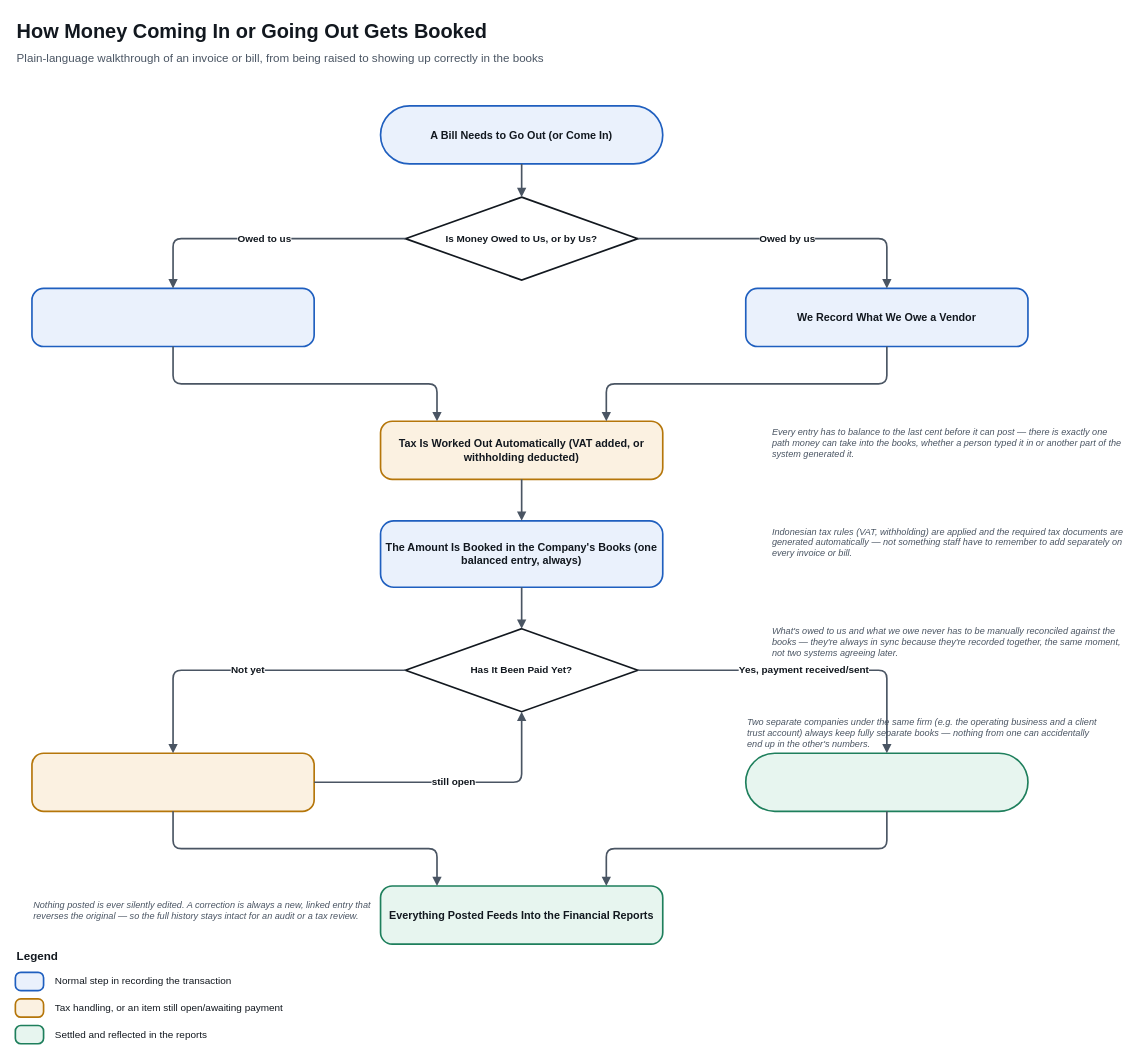
Image size: 1141x1060. Some labels were removed from this diagram. Each missing label, with the box of its shape:
It Stays Open and Tracked (shows up in the aging report): (31, 752, 315, 812)
It's Marked Settled and the Books Reconcile Automatically: (745, 752, 1028, 812)
We Send the Client an Invoice: (31, 287, 315, 347)
